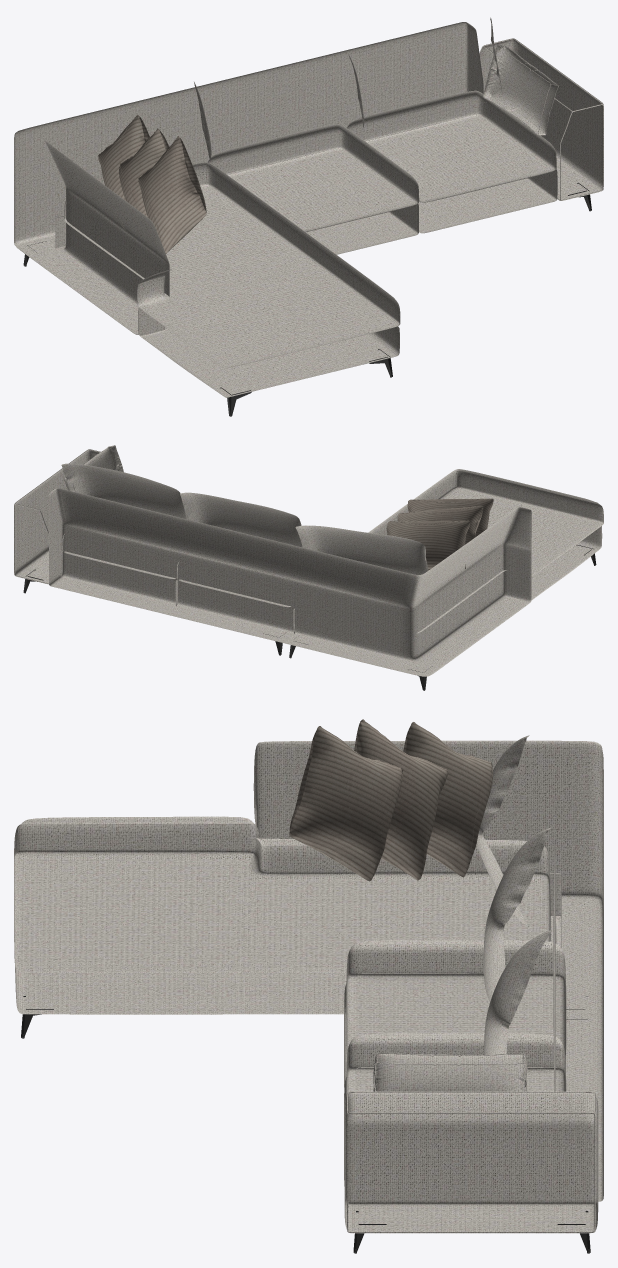
Rendered from chaise.glb.
The picture shows the model from 3 angles, top to bottom: view 1: azimuth 30°, elevation 25°; view 2: azimuth 150°, elevation 25°; view 3: azimuth 270°, elevation 25°; orthographic projection. The views are drawn at different scales.
Parts seen in each view (by area): view 1: fabric, pillows, legs; view 2: fabric, pillows, legs; view 3: fabric, pillows.
Part boxes in pixels (<box>): fabric: <box>14,17,603,397</box>; pillows: <box>98,114,206,253</box>; legs: <box>23,182,591,416</box>; fabric: <box>14,445,603,676</box>; pillows: <box>386,498,493,570</box>; legs: <box>23,545,596,690</box>; fabric: <box>14,735,603,1233</box>; pillows: <box>289,719,493,881</box>.
Size of the model in its own units: 2.97 by 0.8971 by 2.18.
Materials: 3 (2 with a texture image).
